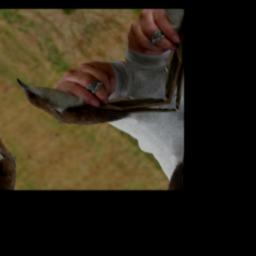Cuckoo: (10, 24, 178, 171)
